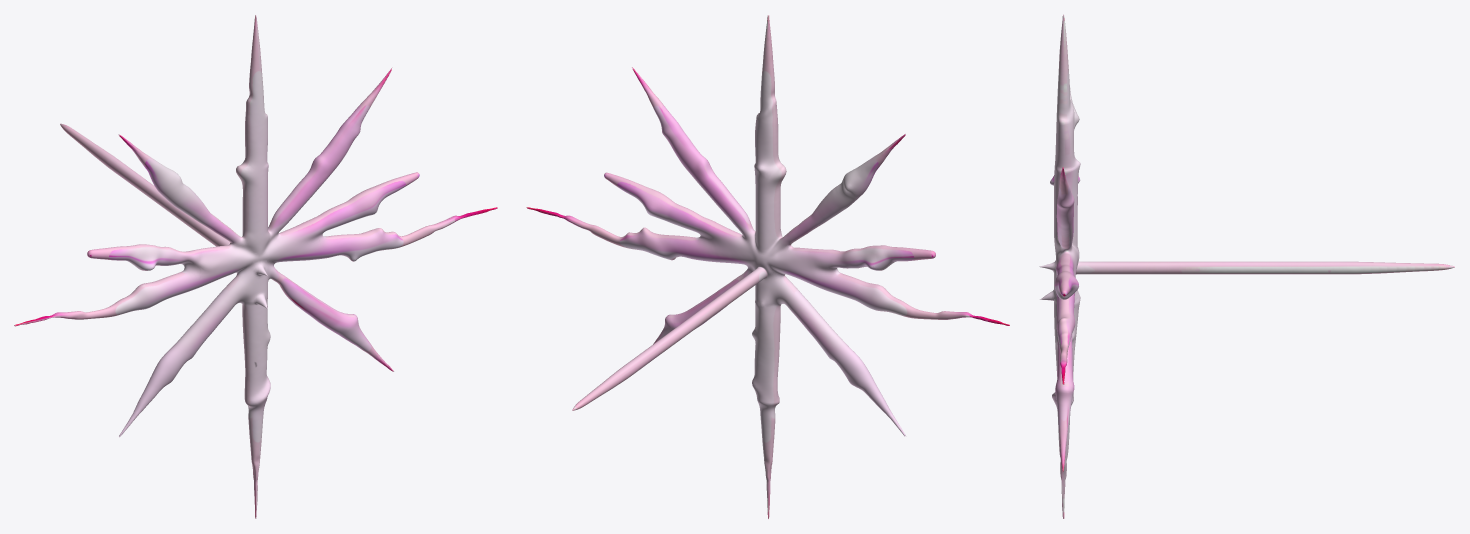
Rendered from powerup-emp.glb.
3 views of the same model, side by side, from view 1: azimuth 30°, elevation 25°; view 2: azimuth 150°, elevation 25°; view 3: azimuth 270°, elevation 25° (orthographic).
Visible parts, largest first — view 1: model; view 2: model; view 3: model.
Part boxes in pixels (x1,y1,x2,y2): model: (14,15,497,518); model: (526,15,1009,518); model: (1039,14,1454,518).
Bounding box in the file's own units: 1.89 × 1.89 × 1.41.
1 material, 1 textured.
